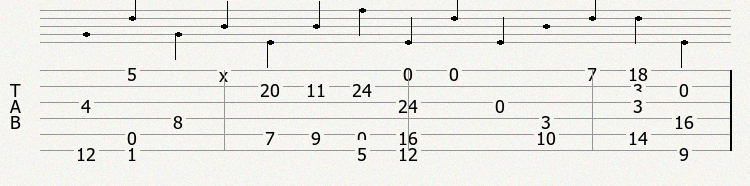0: (127, 126, 141, 143), (357, 126, 371, 143), (403, 62, 417, 79), (449, 62, 463, 79), (495, 94, 509, 111), (679, 78, 693, 95)
1: (127, 142, 141, 159)
10: (536, 126, 560, 143)
11: (306, 78, 330, 95)
12: (76, 142, 100, 159), (398, 142, 422, 159)
14: (628, 126, 652, 143)
16: (398, 126, 422, 143), (674, 110, 698, 127)
18: (628, 62, 652, 79)
20: (260, 78, 284, 95)
24: (352, 78, 376, 95), (398, 94, 422, 111)
3: (541, 110, 555, 127), (633, 78, 647, 95), (633, 94, 647, 111)
4: (81, 94, 95, 111)
5: (127, 62, 141, 79), (357, 142, 371, 159)
7: (265, 126, 279, 143), (587, 62, 601, 79)
8: (173, 110, 187, 127)
9: (311, 126, 325, 143), (679, 142, 693, 159)
x: (219, 63, 232, 77)
